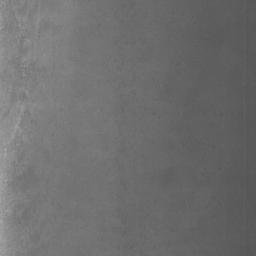Silk spot: (7, 136, 34, 193), (8, 56, 30, 79), (8, 204, 30, 227), (2, 18, 18, 33), (10, 89, 27, 103), (15, 35, 27, 54), (20, 110, 31, 128), (38, 22, 49, 38), (30, 62, 46, 72)
